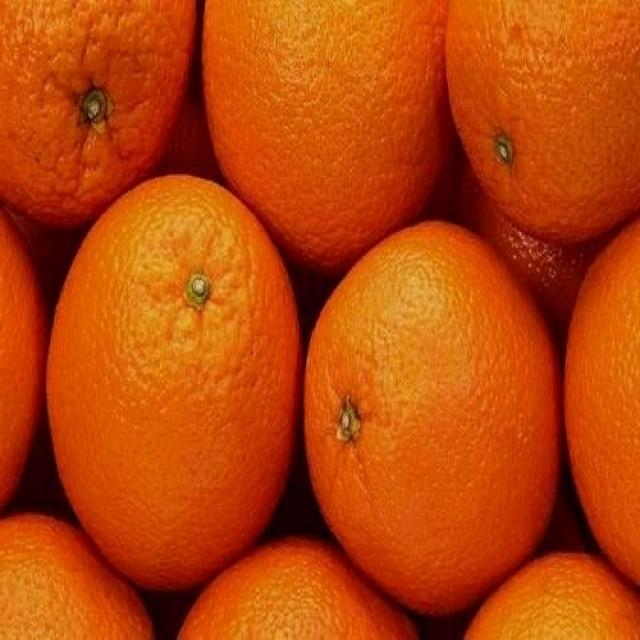orange: (46, 168, 308, 598), (300, 232, 568, 609), (187, 0, 467, 290)
